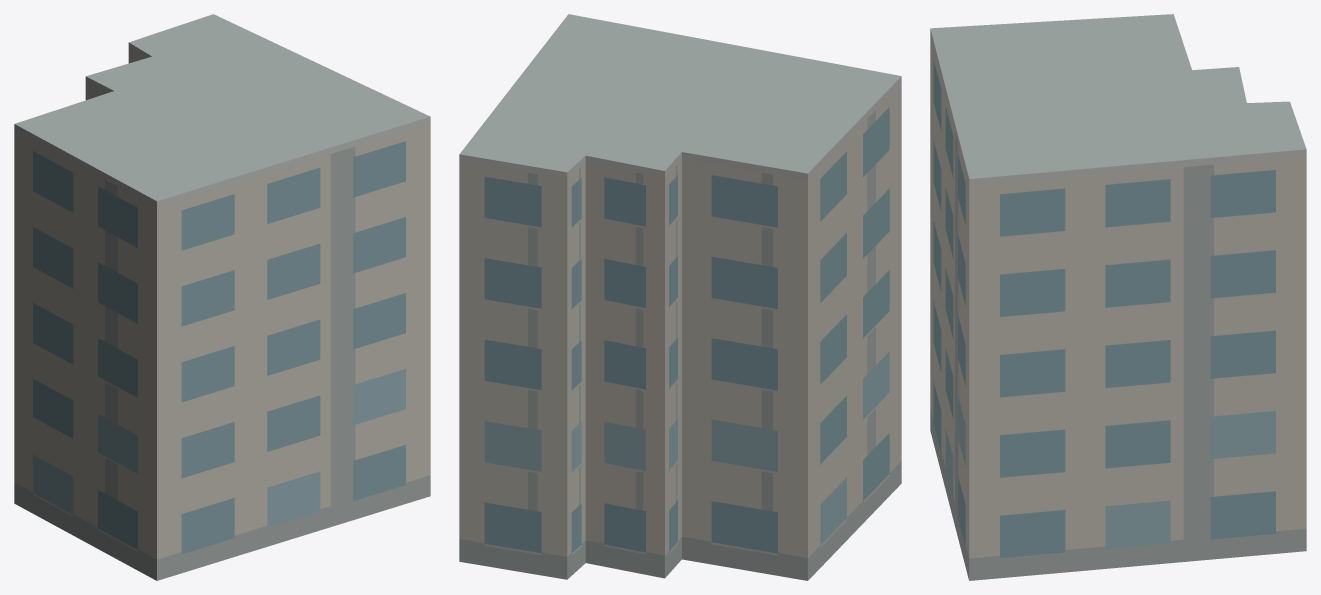
File: survey-upis-32936631.glb
3 renders of one model, left to right at view 1: azimuth 30°, elevation 25°; view 2: azimuth 150°, elevation 25°; view 3: azimuth 270°, elevation 25°, orthographic. The views are drawn at different scales.
Parts seen in each view (by area): view 1: survey-upis-32936631.tmp; view 2: survey-upis-32936631.tmp; view 3: survey-upis-32936631.tmp.
Part boxes in pixels (<box>): survey-upis-32936631.tmp: <box>14,14,430,580</box>; survey-upis-32936631.tmp: <box>459,14,901,580</box>; survey-upis-32936631.tmp: <box>930,14,1306,580</box>.
Size of the model in its own units: 12.43 by 14.1 by 11.98.
